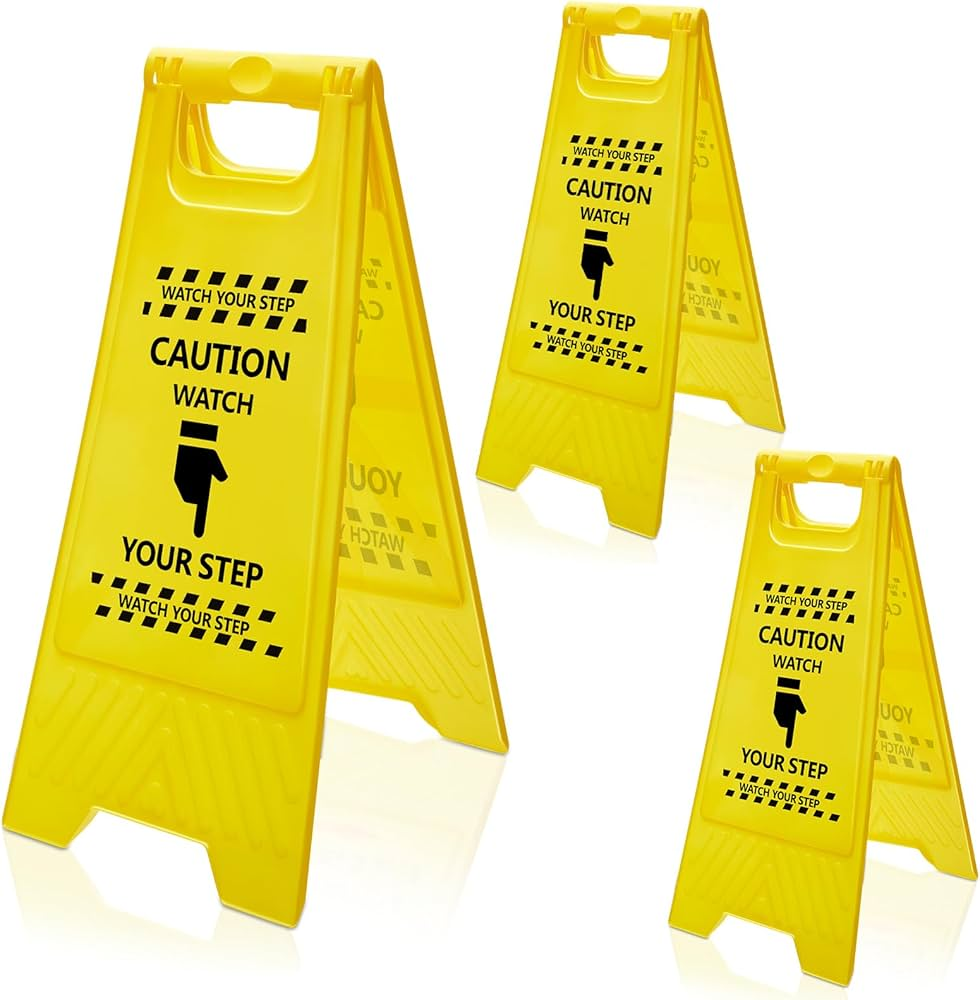wet caution sign: (64, 14, 480, 877), (737, 424, 976, 1000), (488, 2, 766, 492)
